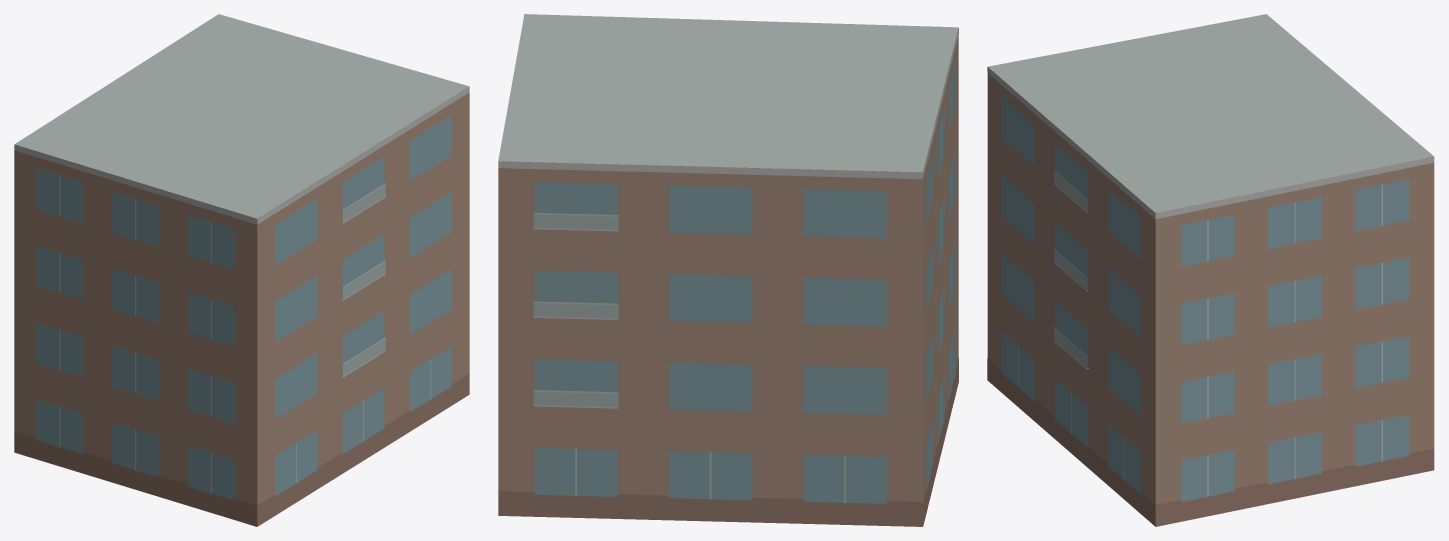
Rendered from survey-upis-32735169.glb.
The picture shows the model from 3 angles, left to right: view 1: azimuth 30°, elevation 25°; view 2: azimuth 150°, elevation 25°; view 3: azimuth 270°, elevation 25°; orthographic projection. The views are drawn at different scales.
Parts seen in each view (by area): view 1: survey-upis-32735169.tmp; view 2: survey-upis-32735169.tmp; view 3: survey-upis-32735169.tmp.
Boxes of the visible parts, x1,y1,x2,y2 form: survey-upis-32735169.tmp: (14,14,469,526); survey-upis-32735169.tmp: (498,14,958,526); survey-upis-32735169.tmp: (987,14,1434,526).
Size of the model in its own units: 17.17 by 12.6 by 16.27.
